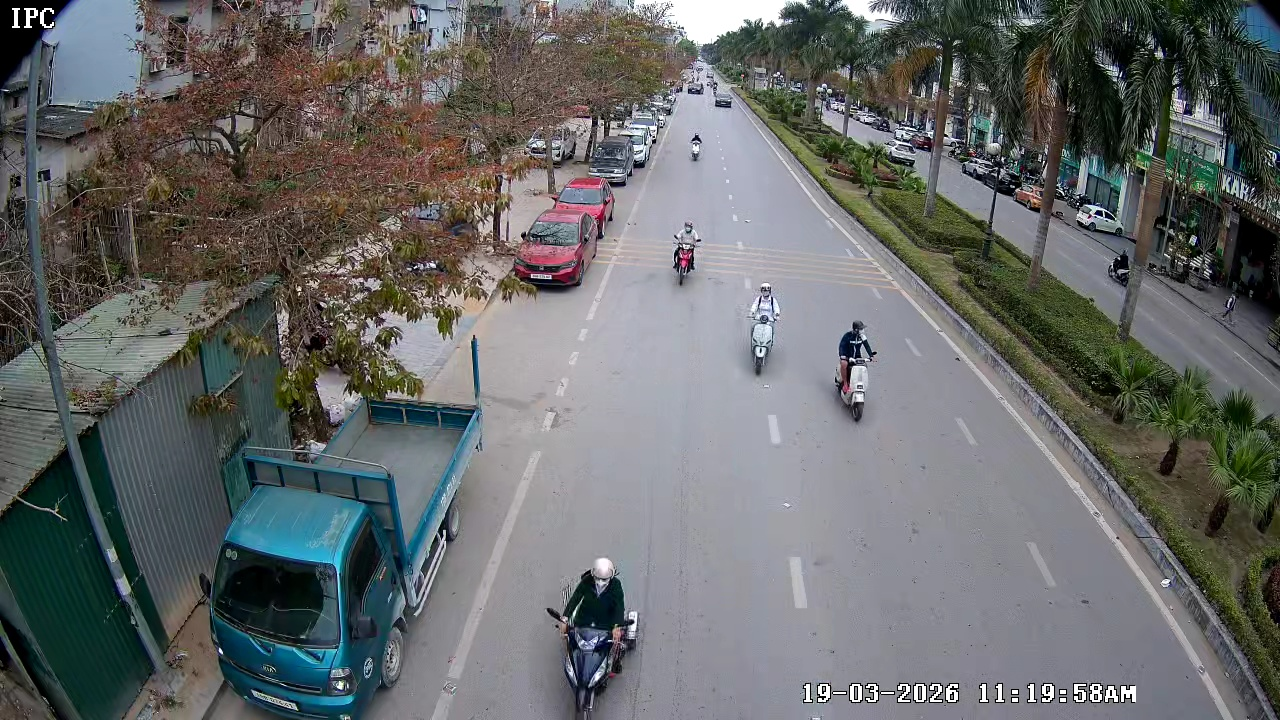car: (514, 210, 591, 290), (552, 175, 616, 238), (583, 131, 636, 187), (687, 79, 706, 97), (715, 91, 733, 109)
motorbike: (545, 558, 639, 719), (832, 318, 878, 423), (745, 281, 782, 375), (669, 220, 703, 287), (688, 132, 707, 162)
